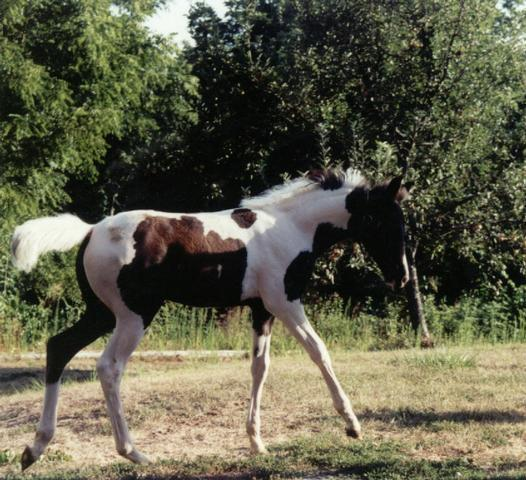horse: (9, 165, 413, 472)
